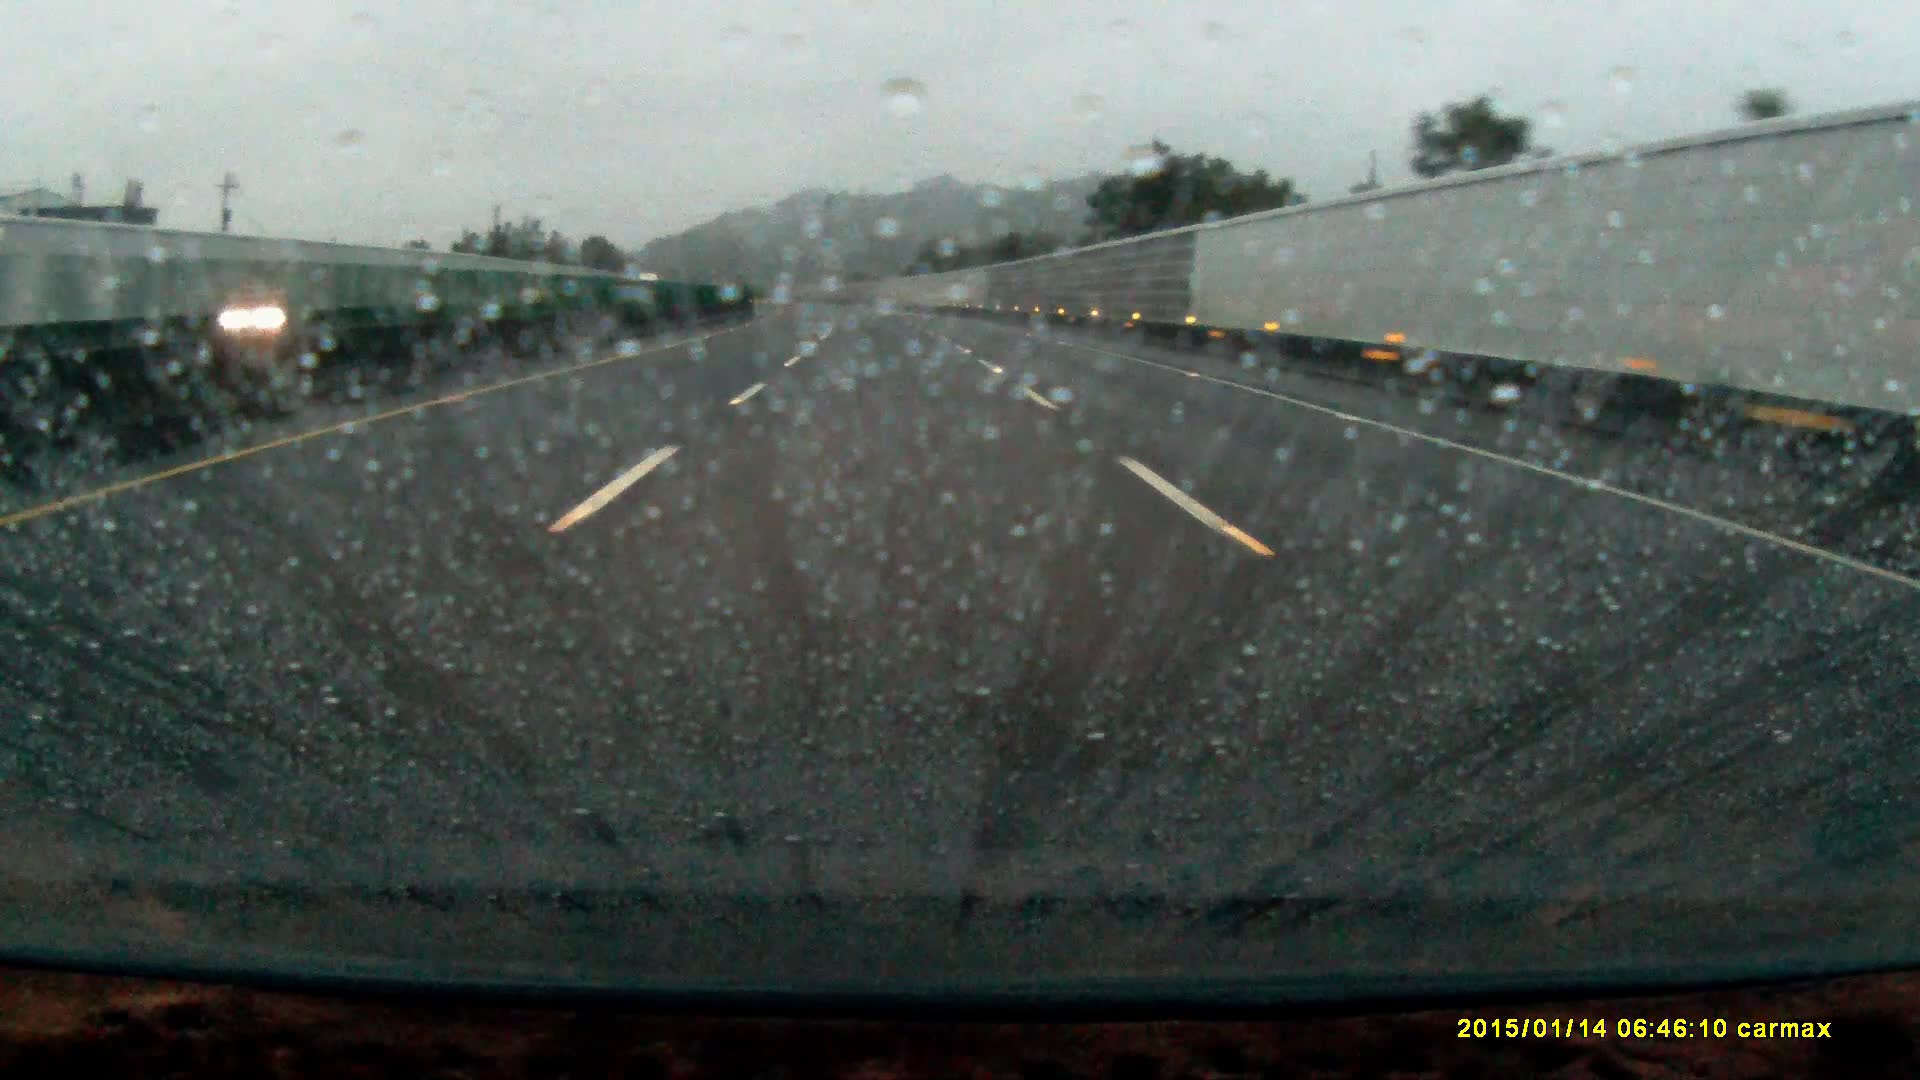vehicle: (223, 293, 298, 332)
